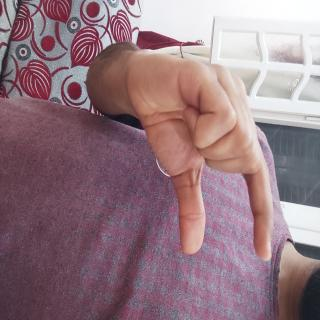DELL: (28, 51, 198, 282)
